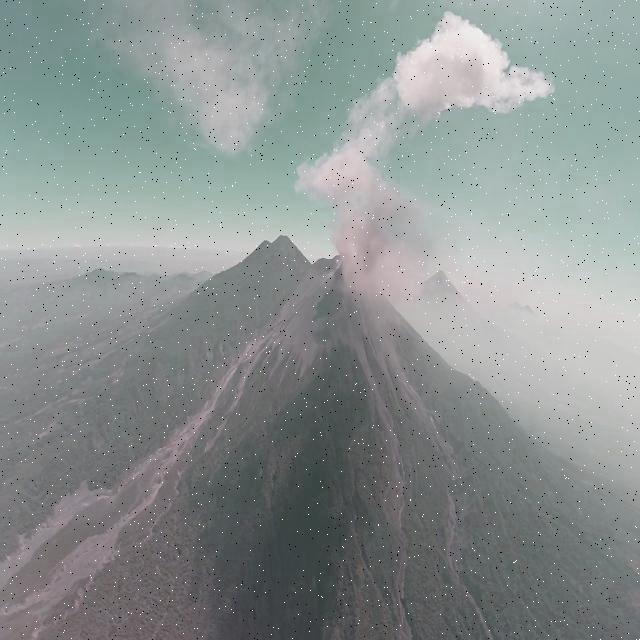Plume: (80, 0, 330, 164), (296, 135, 436, 305), (392, 6, 560, 119)
